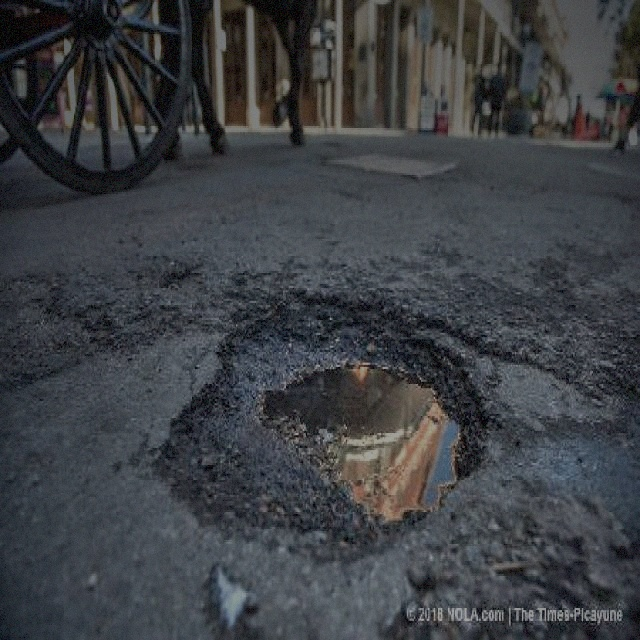pothole: (146, 282, 494, 559)
